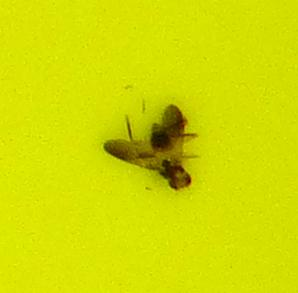Brachycera: (100, 100, 198, 193)
